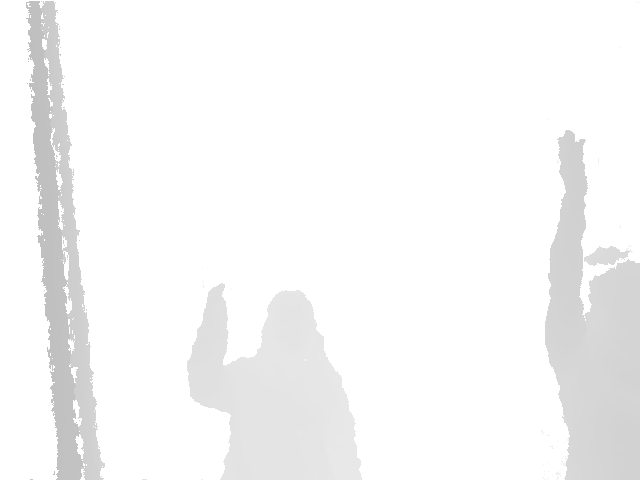hand: (552, 127, 593, 197)
head: (258, 287, 322, 361), (585, 250, 640, 327)
person: (186, 279, 368, 480), (543, 122, 640, 480)
